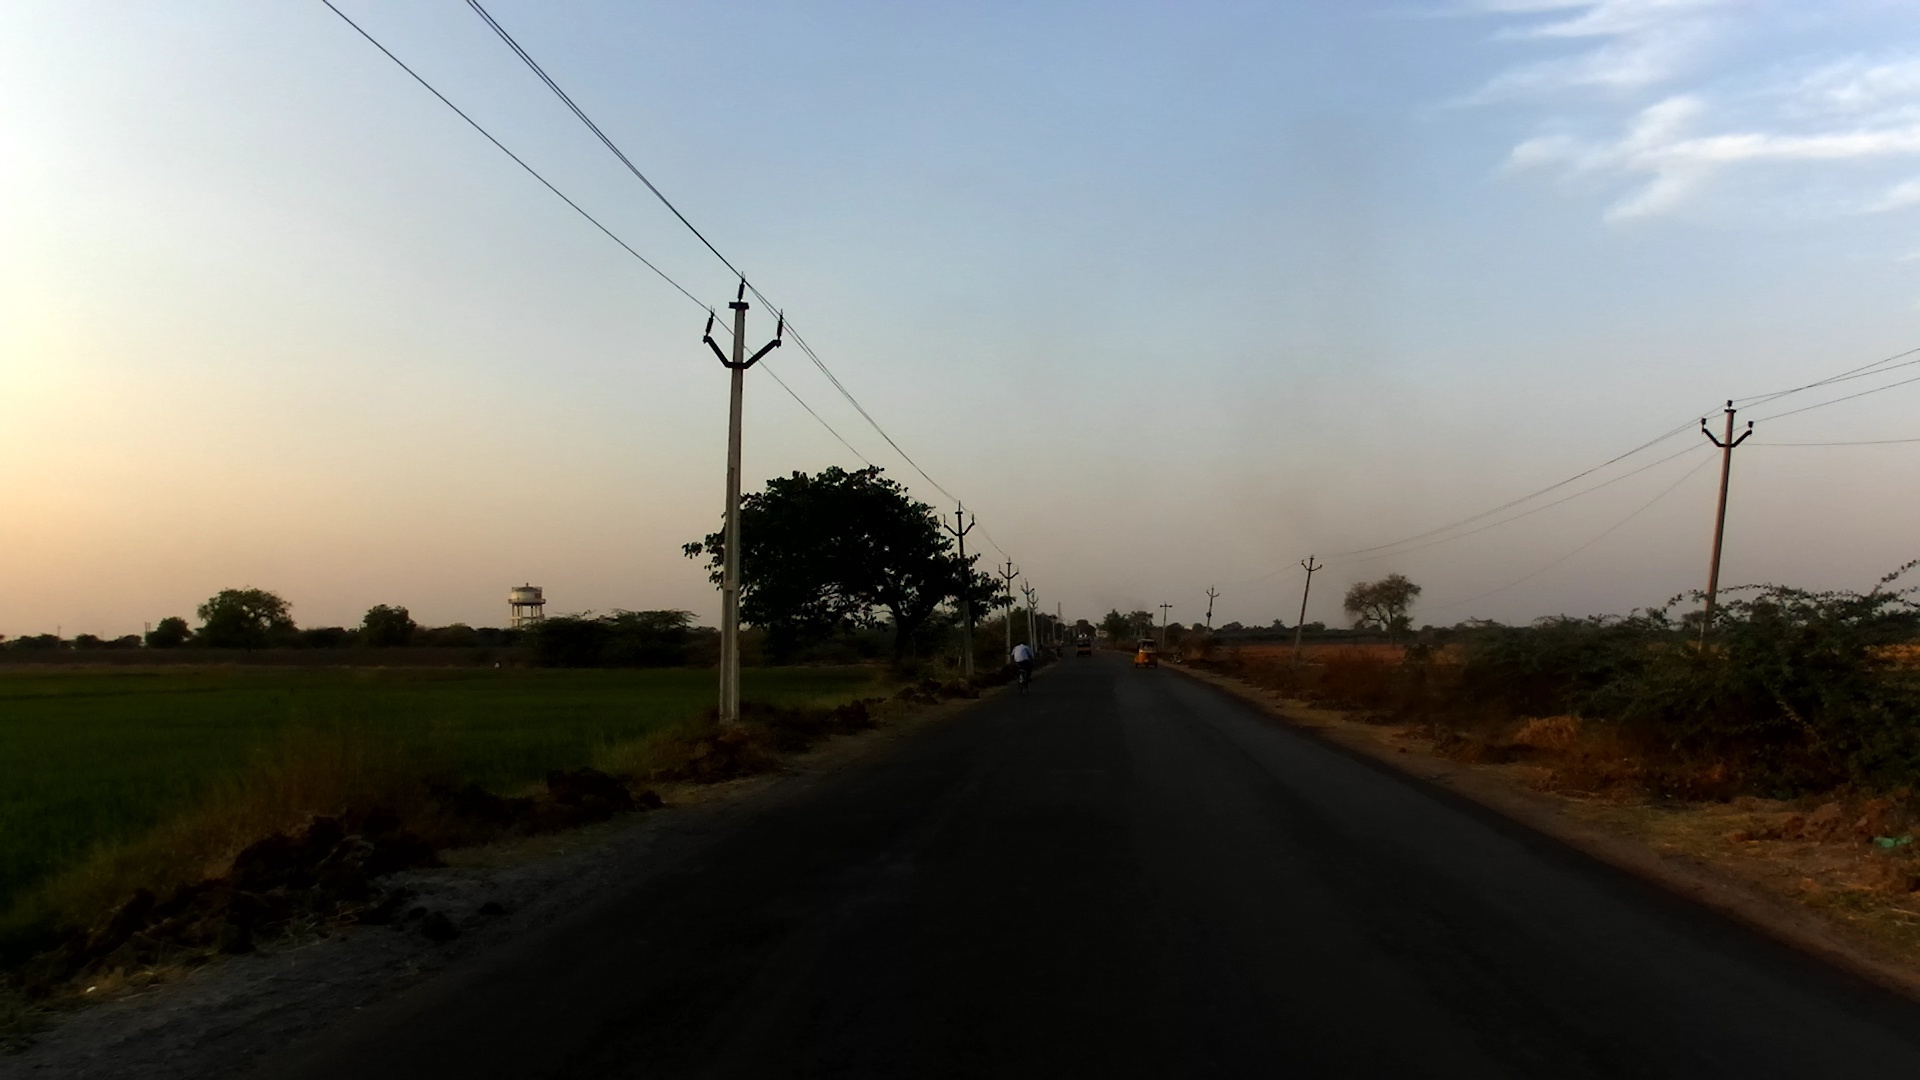autorickshaw: (1133, 638, 1162, 669)
car: (1072, 634, 1093, 659)
motorcycle: (1016, 658, 1036, 697), (1171, 649, 1188, 666)
rider: (1010, 638, 1035, 684)
